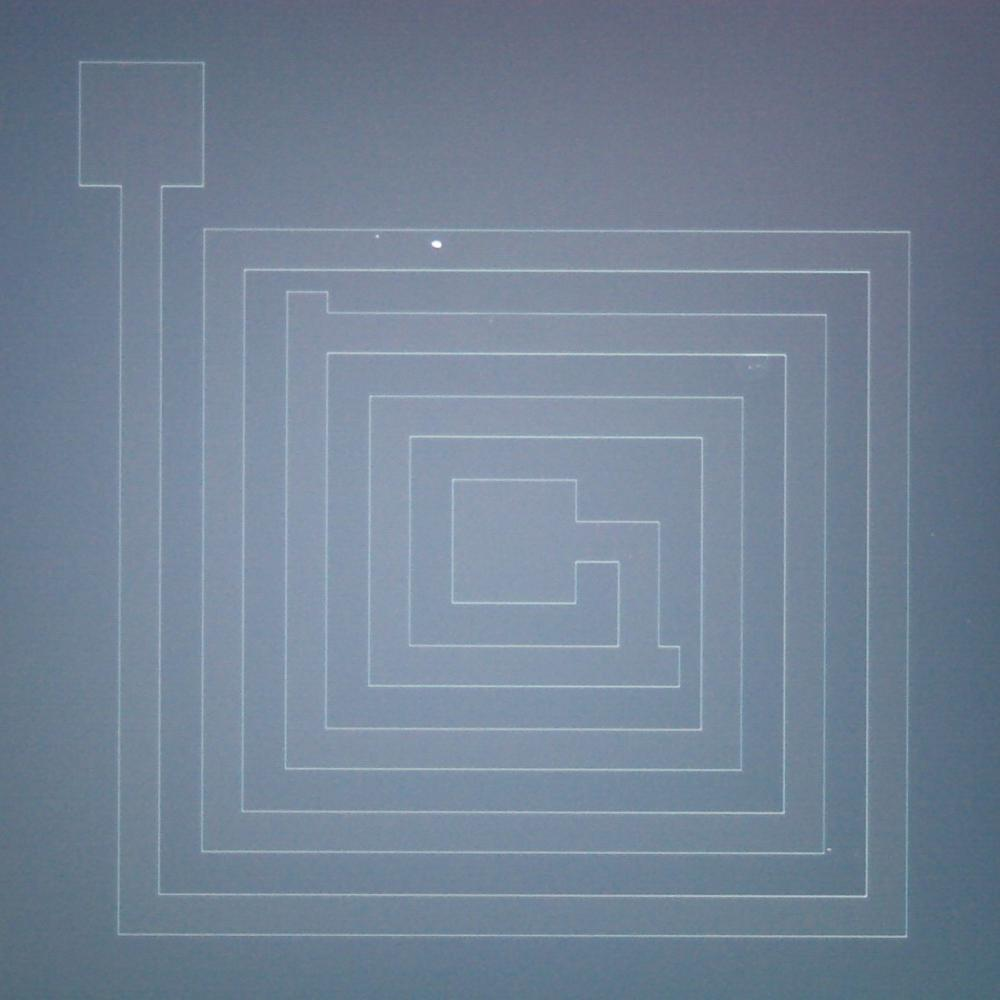dot: (432, 239, 442, 249), (376, 234, 380, 239), (827, 847, 831, 852)
